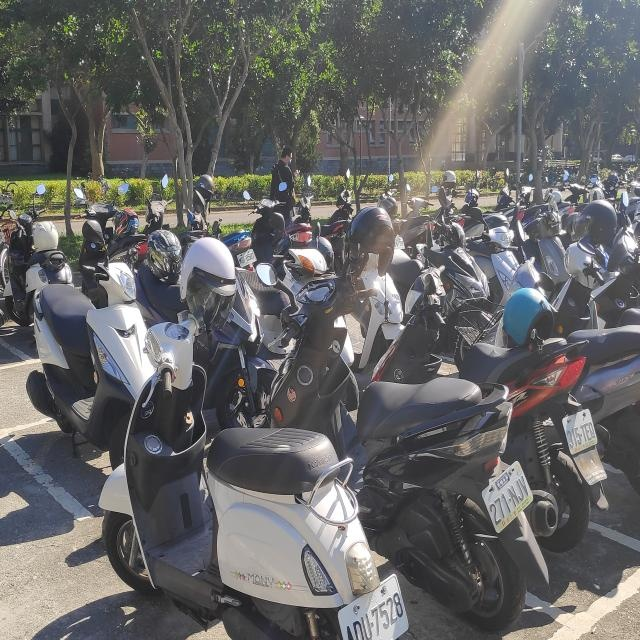Motorcycle: (48, 309, 414, 640), (264, 259, 552, 629), (29, 256, 179, 474)
